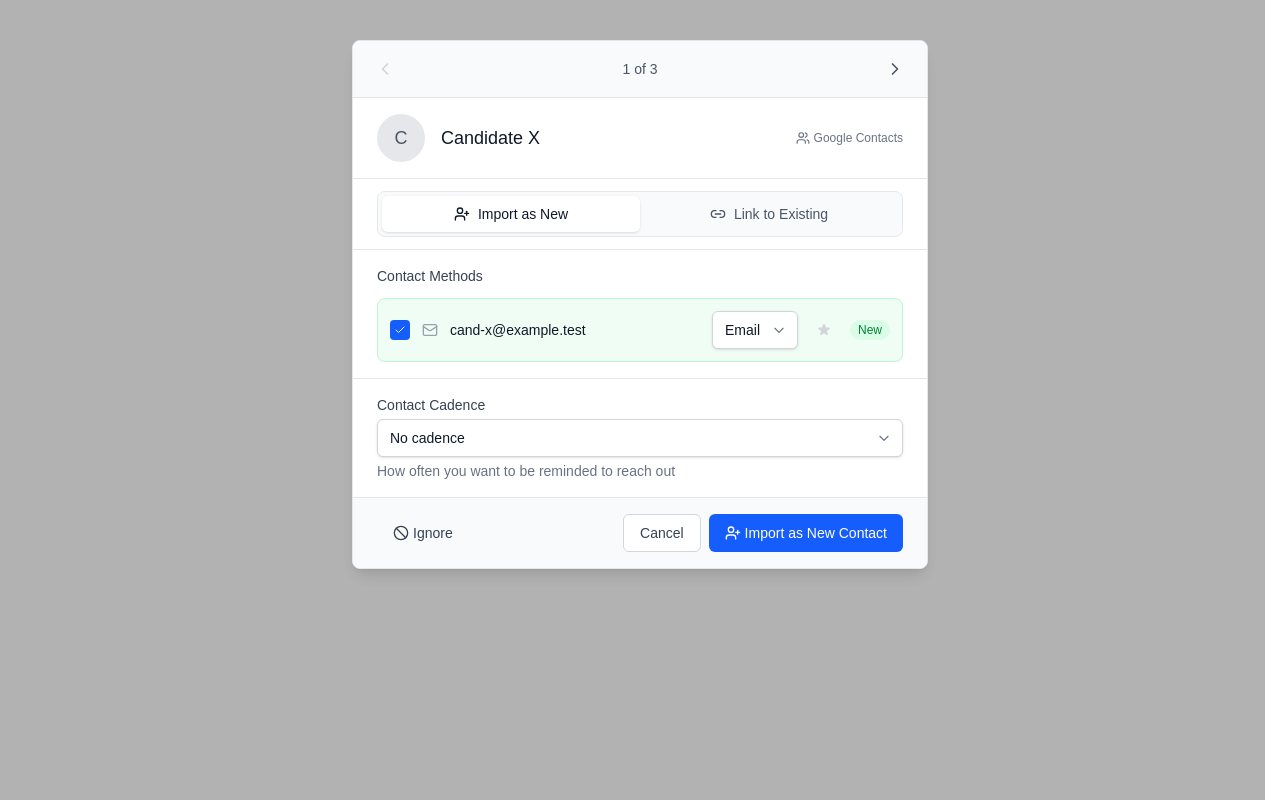
Test: ContactCandidateResolver candidate tracking › advances after a resolve even when no fresh list ever arrives
This screenshot has width=1280, height=800.
expect the heading "Candidate X" is shown: met, box [441,128,540,148]
What coordinates should you click on to do the following:
click the button "Import as New Contact"
I would click on:
 (806, 533)
Its box is [709,514,903,552].
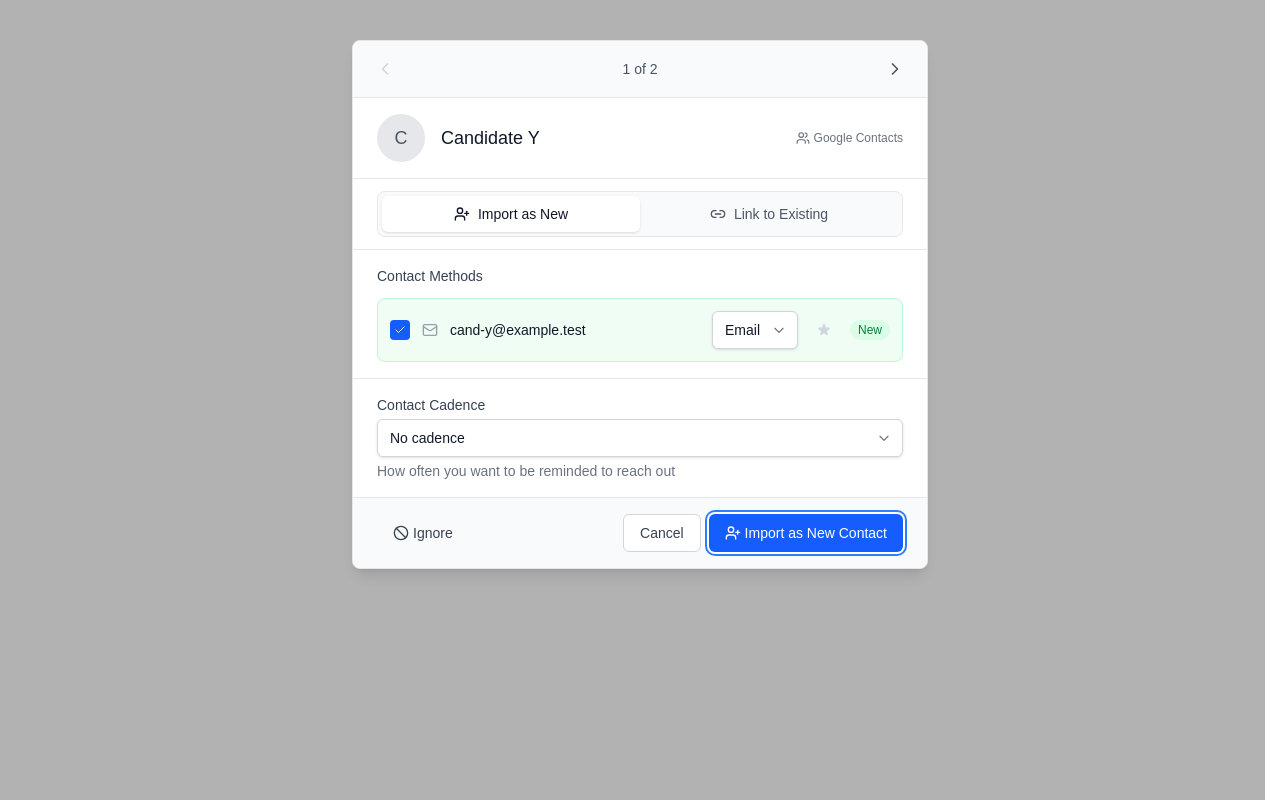
expect the heading "Candidate Y" is shown: met, box [441,128,540,148]
expect the text "1 of 2" is shown: met, box [622,59,658,79]
